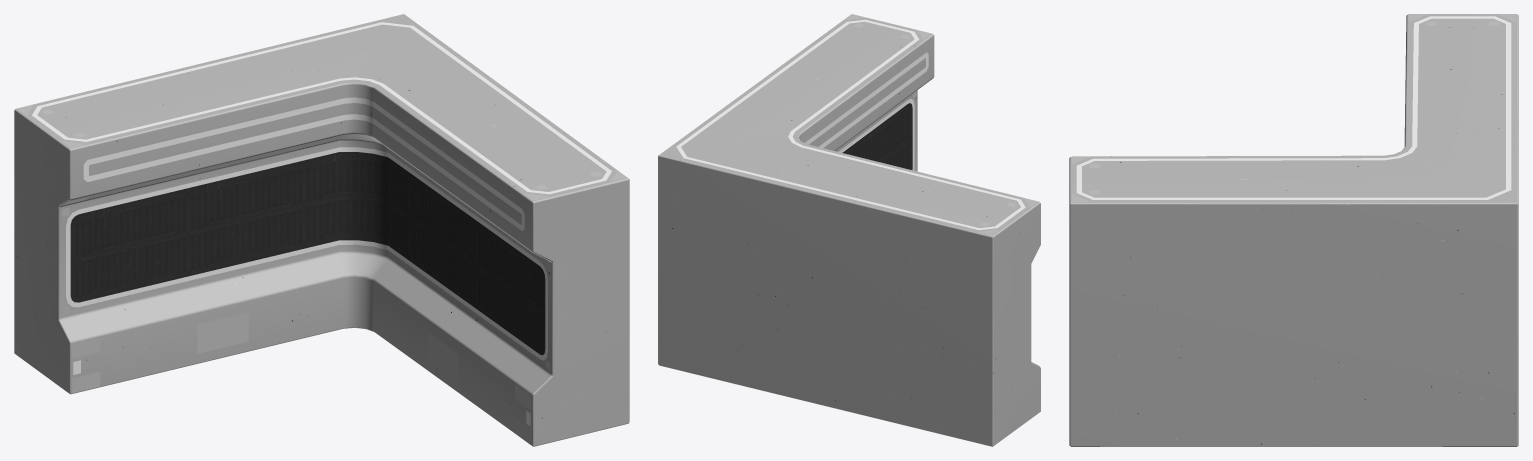
The model's file is SM_Modular_Interior_WallPart_2_Merged.fbx.
3 renders of one model, left to right at view 1: azimuth 30°, elevation 25°; view 2: azimuth 150°, elevation 25°; view 3: azimuth 270°, elevation 25°, orthographic. The views are drawn at different scales.
Parts seen in each view (by area): view 1: SM_Modular_Interior_WallPart_2_Merged_LOD0; view 2: SM_Modular_Interior_WallPart_2_Merged_LOD0; view 3: SM_Modular_Interior_WallPart_2_Merged_LOD0.
Part boxes in pixels (x1=…): SM_Modular_Interior_WallPart_2_Merged_LOD0: x1=14, y1=14, x2=629, y2=446; SM_Modular_Interior_WallPart_2_Merged_LOD0: x1=658, y1=14, x2=1040, y2=446; SM_Modular_Interior_WallPart_2_Merged_LOD0: x1=1069, y1=14, x2=1518, y2=446.
Size of the model in its own units: 250 by 250 by 150.
